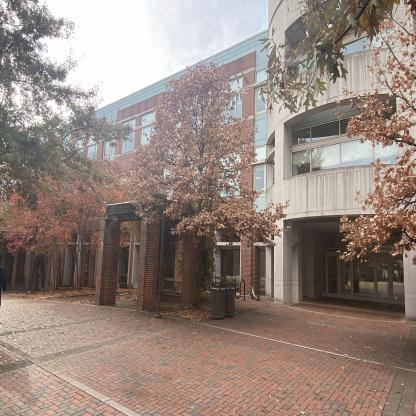EB-1: (12, 47, 393, 322)
